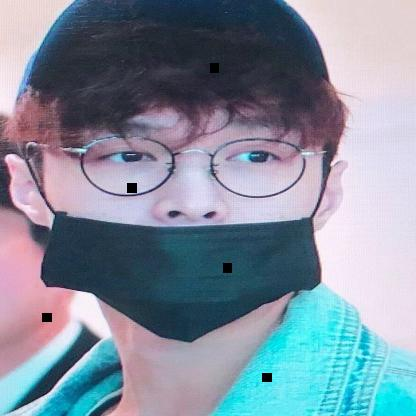mask: (0, 0, 359, 340)
